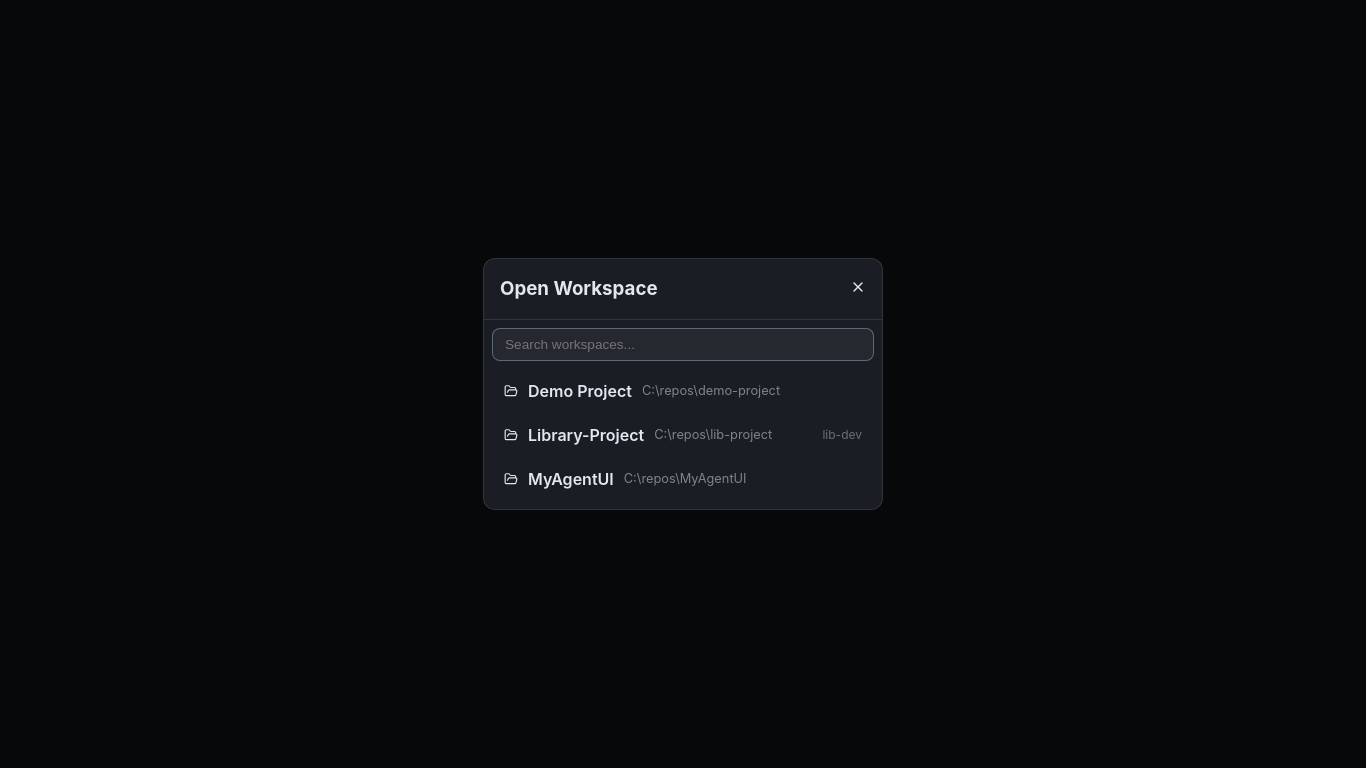
Scenario: WorkspacePickerModal › filters workspaces by label
The width and height of the screenshot is (1366, 768).
Type "demo" into the field with placeholder "Search workspaces...". click: (683, 344)
box: [492, 328, 874, 361]
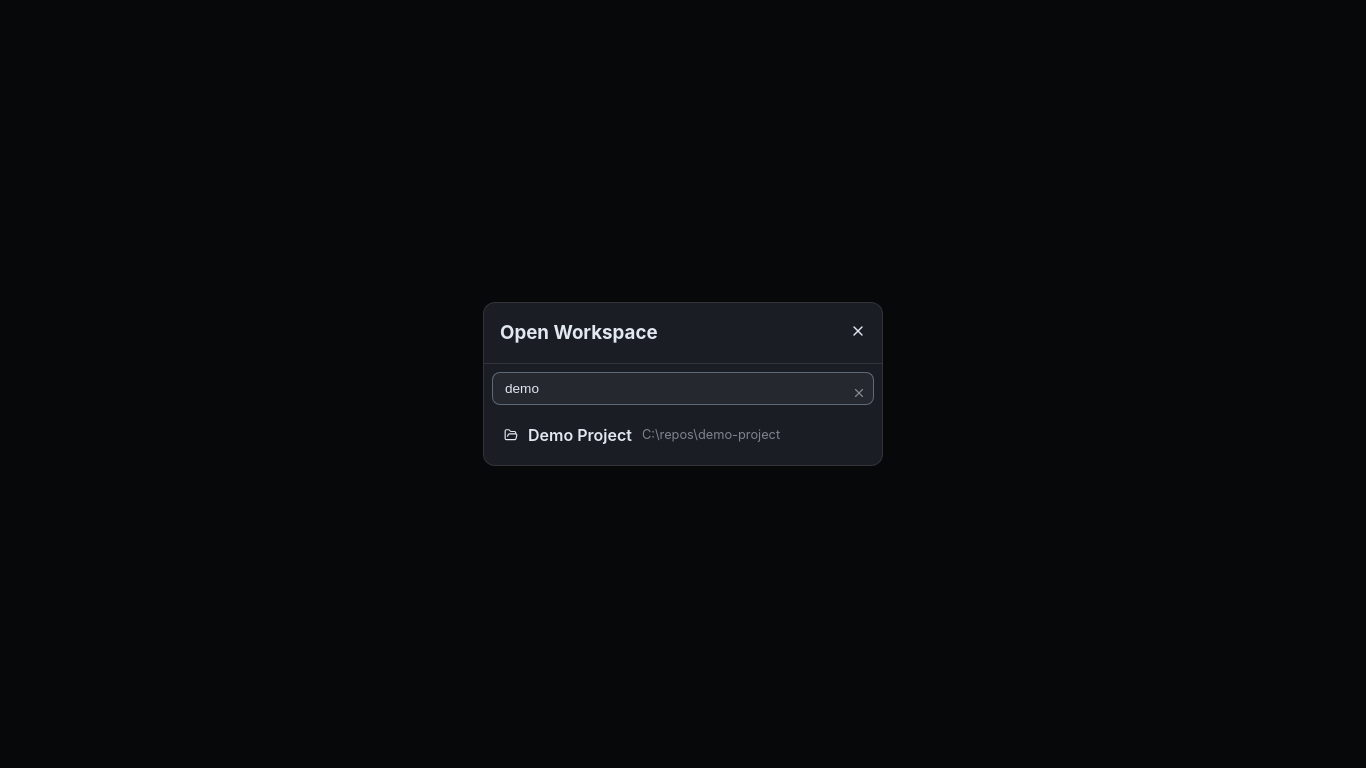
Expected: the text "Demo Project" is shown, [528, 423, 632, 447]
Now the text "Library-Project" is gone
